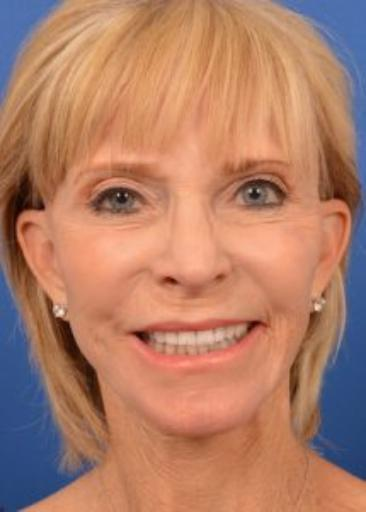left_eye: (229, 179, 291, 212)
left_lip_corner: (252, 313, 270, 334)
right_eye: (91, 188, 151, 217)
right_lip_corner: (124, 326, 143, 342)
